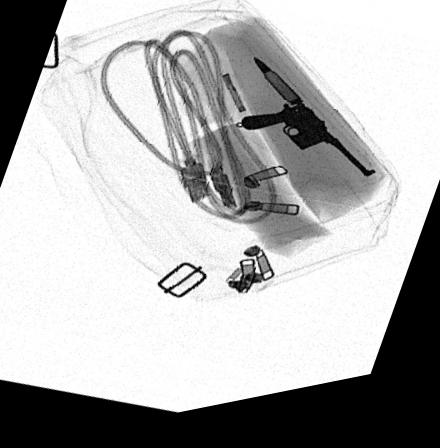Bullet: (253, 64, 303, 115)
Gun: (241, 114, 370, 189)
